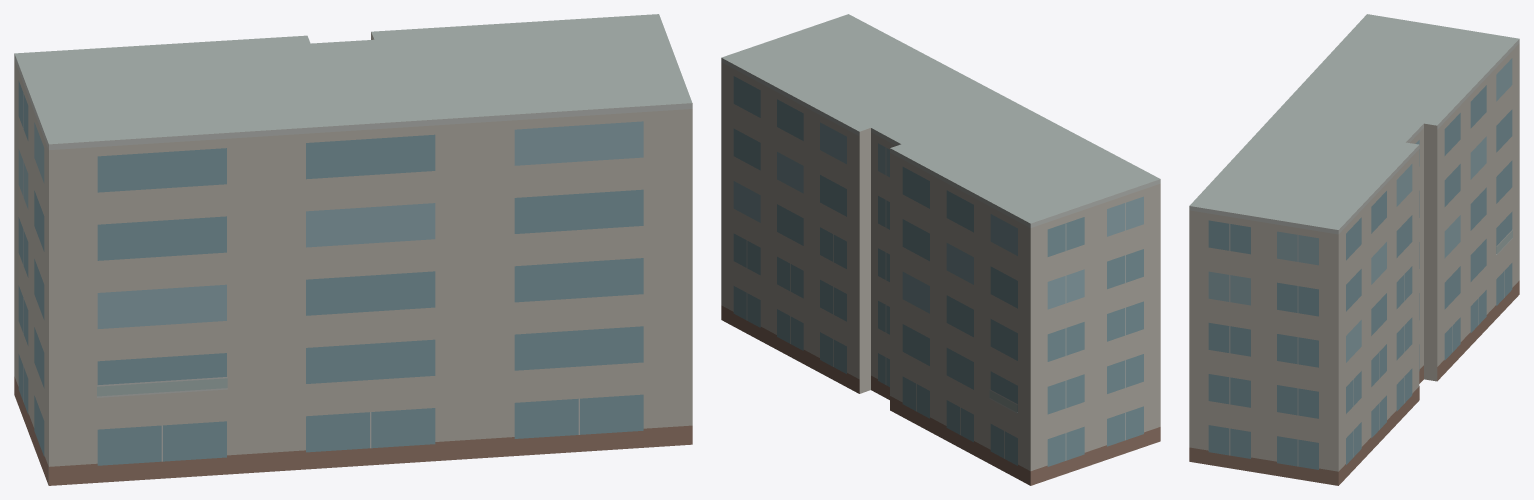
File: survey-upis-32664429.glb
3 views of the same model, side by side, from view 1: azimuth 30°, elevation 25°; view 2: azimuth 150°, elevation 25°; view 3: azimuth 270°, elevation 25° (orthographic). The views are drawn at different scales.
Parts seen in each view (by area): view 1: survey-upis-32664429.tmp; view 2: survey-upis-32664429.tmp; view 3: survey-upis-32664429.tmp.
Boxes of the visible parts, box(x1,y1,x2,y2) form: survey-upis-32664429.tmp: box(14, 14, 692, 485); survey-upis-32664429.tmp: box(721, 14, 1160, 485); survey-upis-32664429.tmp: box(1189, 14, 1519, 485).
Bounding box in the file's own units: 25.92 × 14.3 × 16.74.
